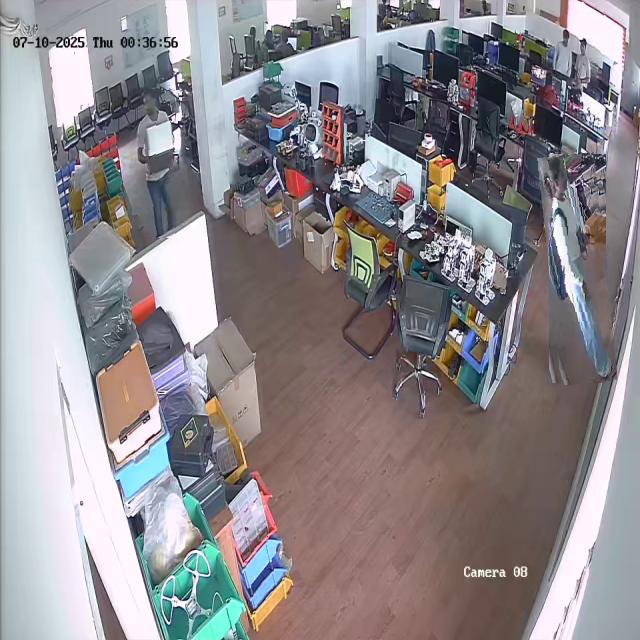person: (543, 153, 612, 384), (133, 90, 178, 238)
